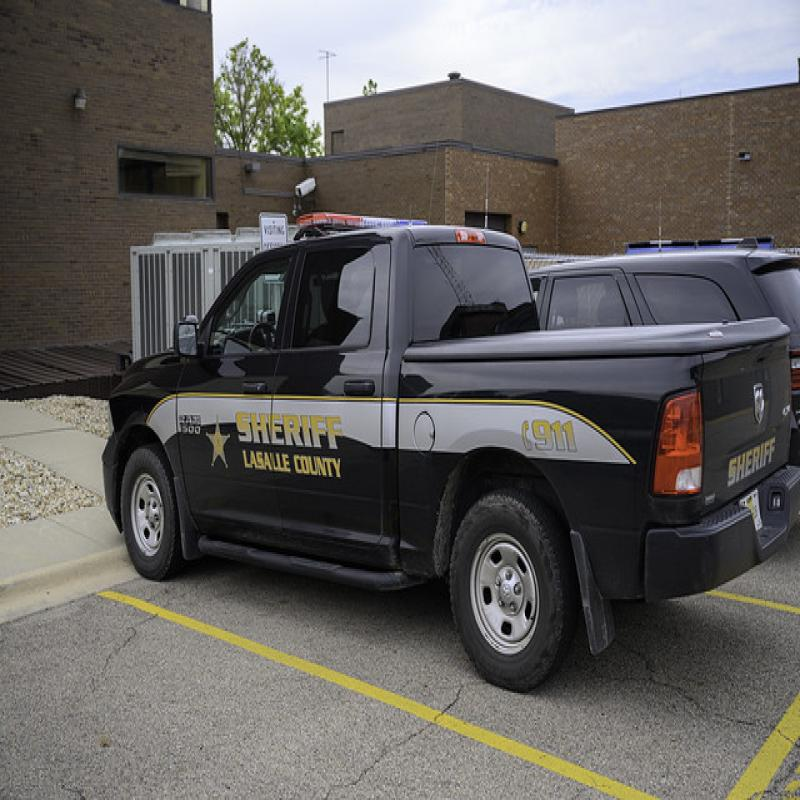AmbulanceSiren: (281, 194, 419, 258)
